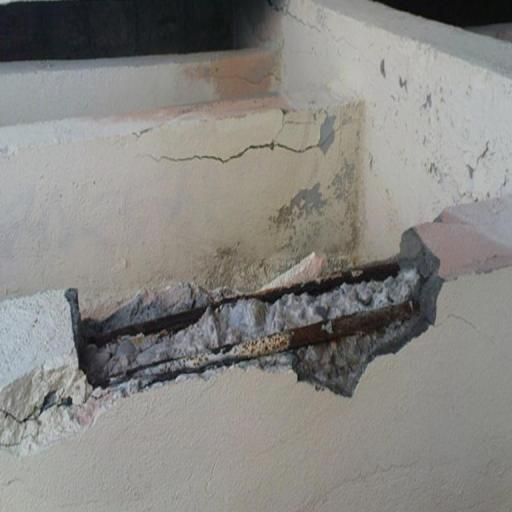spalling: (1, 231, 441, 454), (149, 114, 350, 170)
